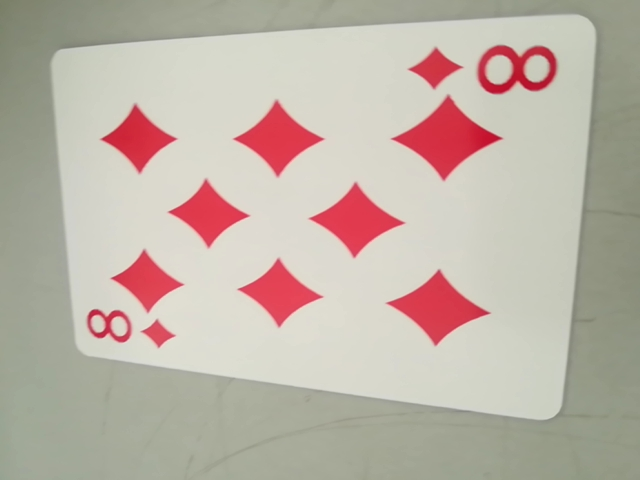fk 8: (409, 33, 561, 104), (79, 303, 177, 356)
